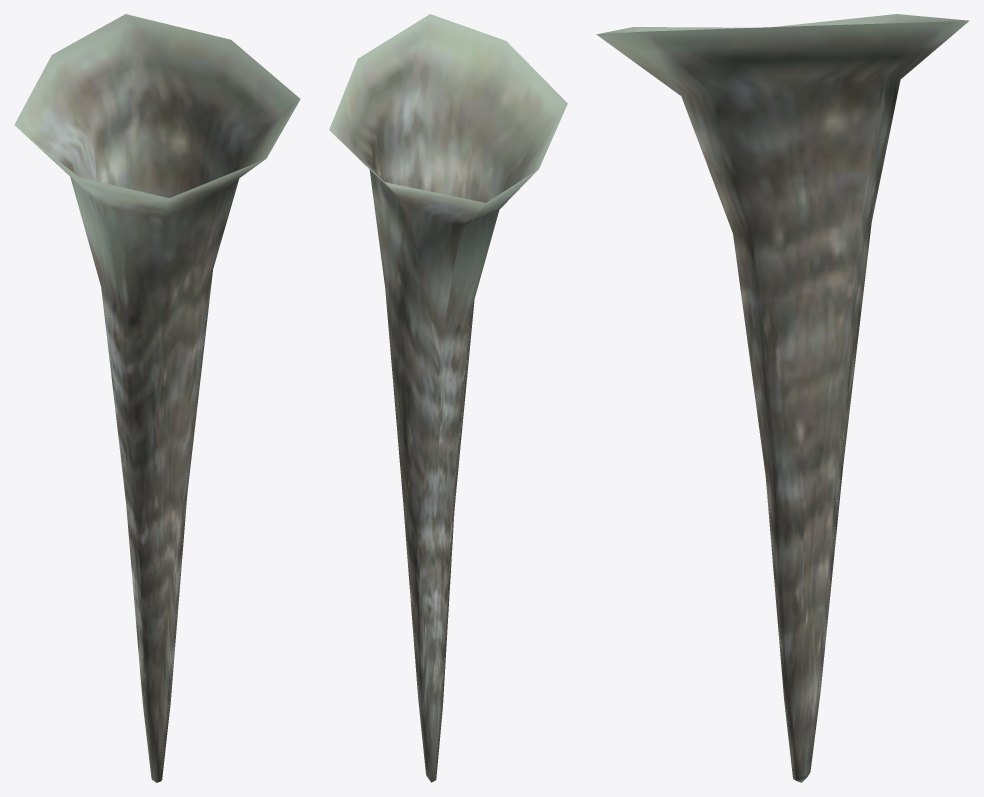
File: TROLLHOLE02_PS-MAINSTALAG26.fbx
The picture shows the model from 3 angles, left to right: view 1: azimuth 30°, elevation 25°; view 2: azimuth 150°, elevation 25°; view 3: azimuth 270°, elevation 25°; orthographic projection. The views are drawn at different scales.
Visible parts, largest first — view 1: TROLLHOLE02_PS-MAINSTALAG26; view 2: TROLLHOLE02_PS-MAINSTALAG26; view 3: TROLLHOLE02_PS-MAINSTALAG26.
Part boxes in pixels (x1=…): TROLLHOLE02_PS-MAINSTALAG26: x1=14, y1=14, x2=300, y2=782; TROLLHOLE02_PS-MAINSTALAG26: x1=329, y1=14, x2=567, y2=782; TROLLHOLE02_PS-MAINSTALAG26: x1=596, y1=14, x2=969, y2=782.
Size of the model in its own units: 8112 by 32219 by 13690.
1 material, 1 textured.
